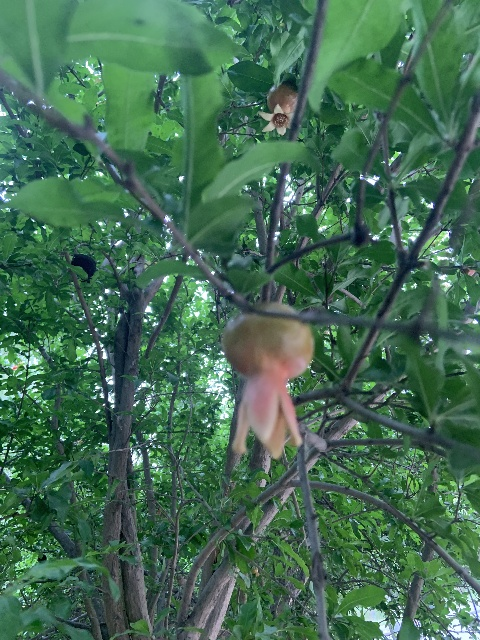early-fruit: (222, 302, 314, 456), (257, 83, 299, 135)
